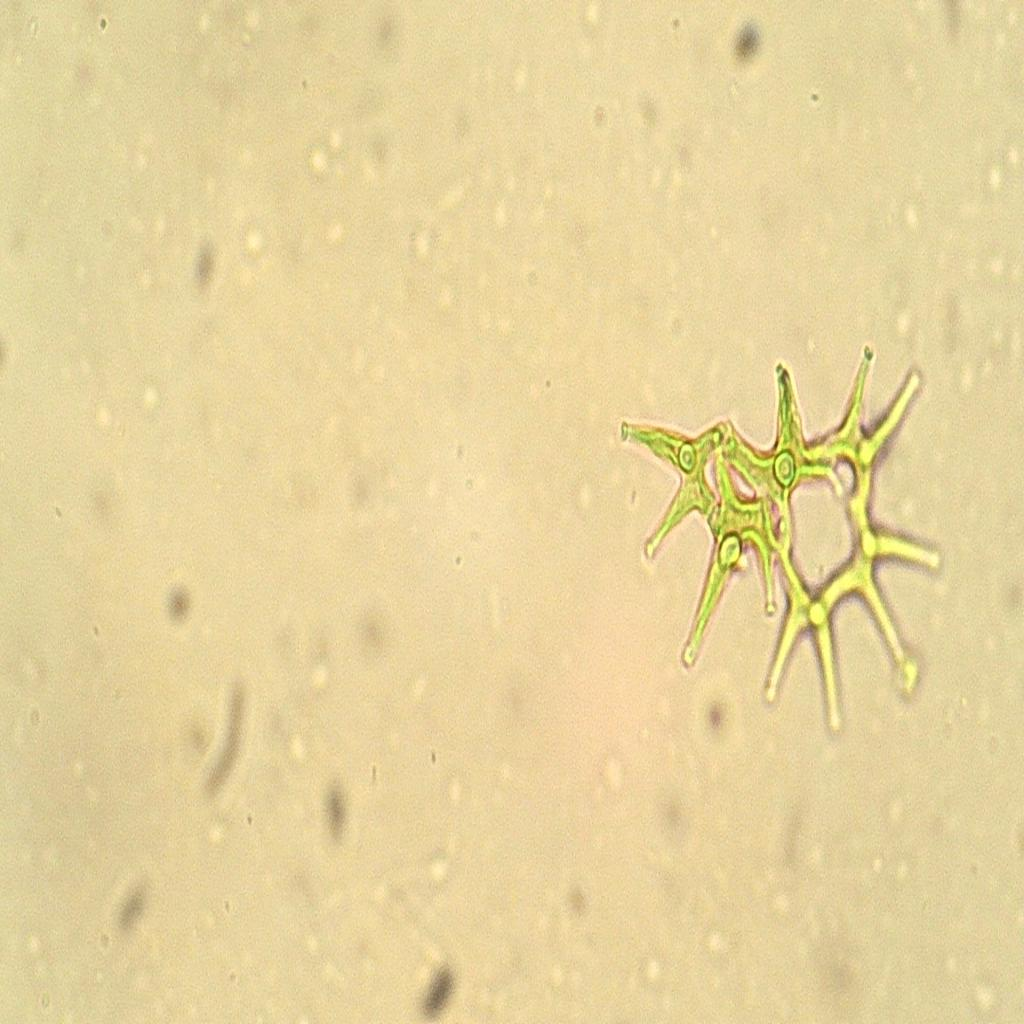Pediastrum_CFI: (602, 323, 986, 752)
